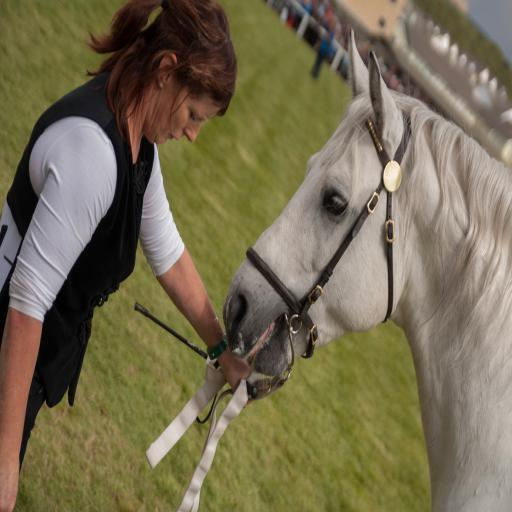Horse: (222, 28, 512, 512)
